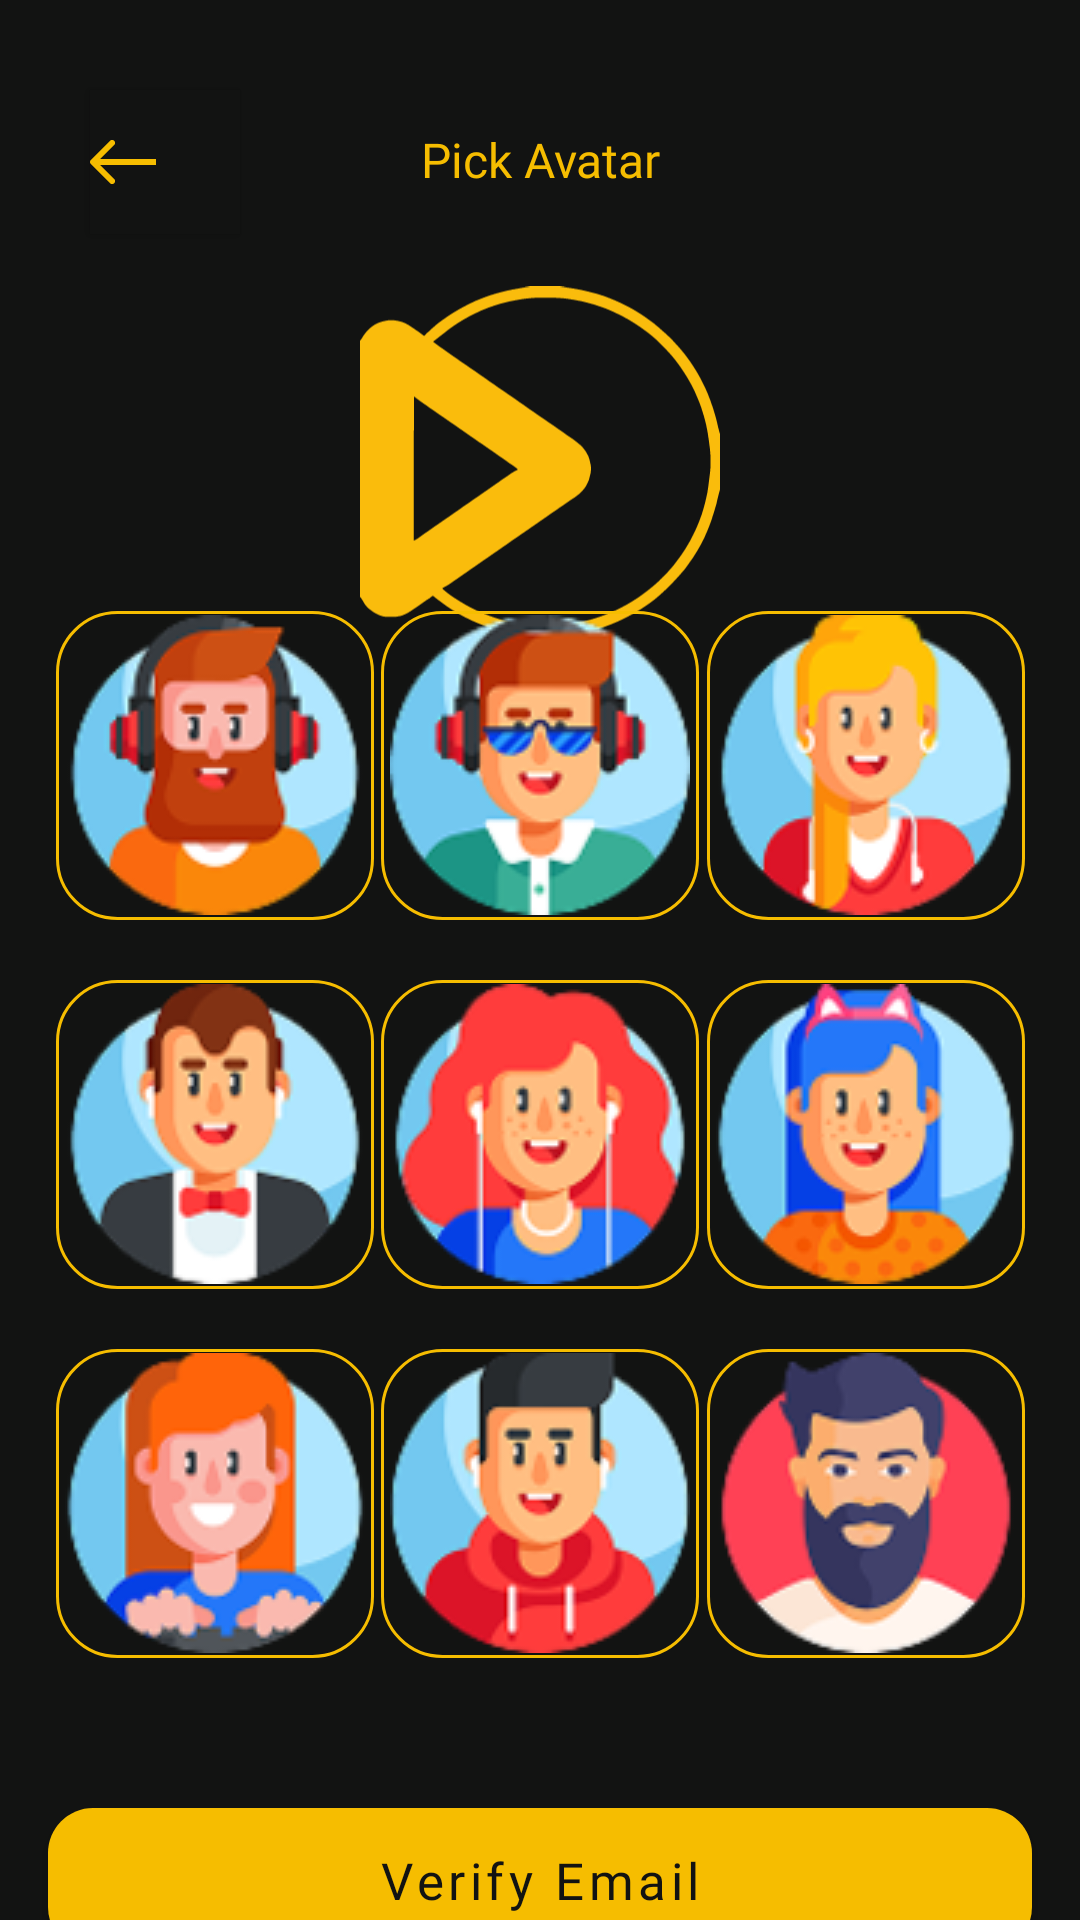

Icons on this 1080×1920 Android screen, each with its box as (x1, y1, x2, y2):
back: (90, 140, 156, 184)
